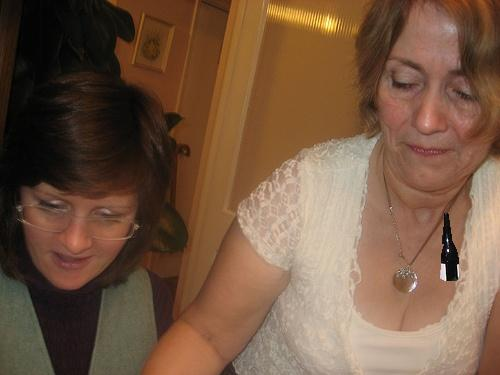tampered: (441, 214, 459, 281)
